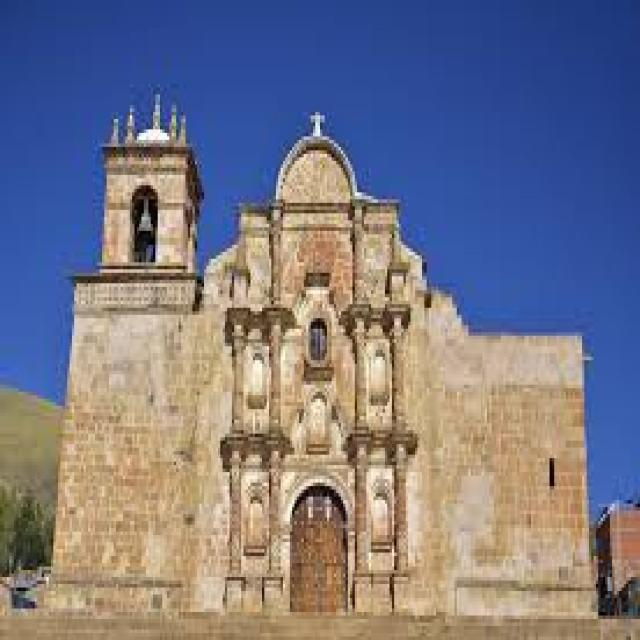6: (38, 61, 218, 606)
CAMPANARIO: (69, 126, 200, 271)
CUPULA: (5, 26, 602, 630)
PORTADA CENTRAL: (104, 92, 209, 152)
SIMETRIA COLONIAL: (221, 297, 419, 624)
